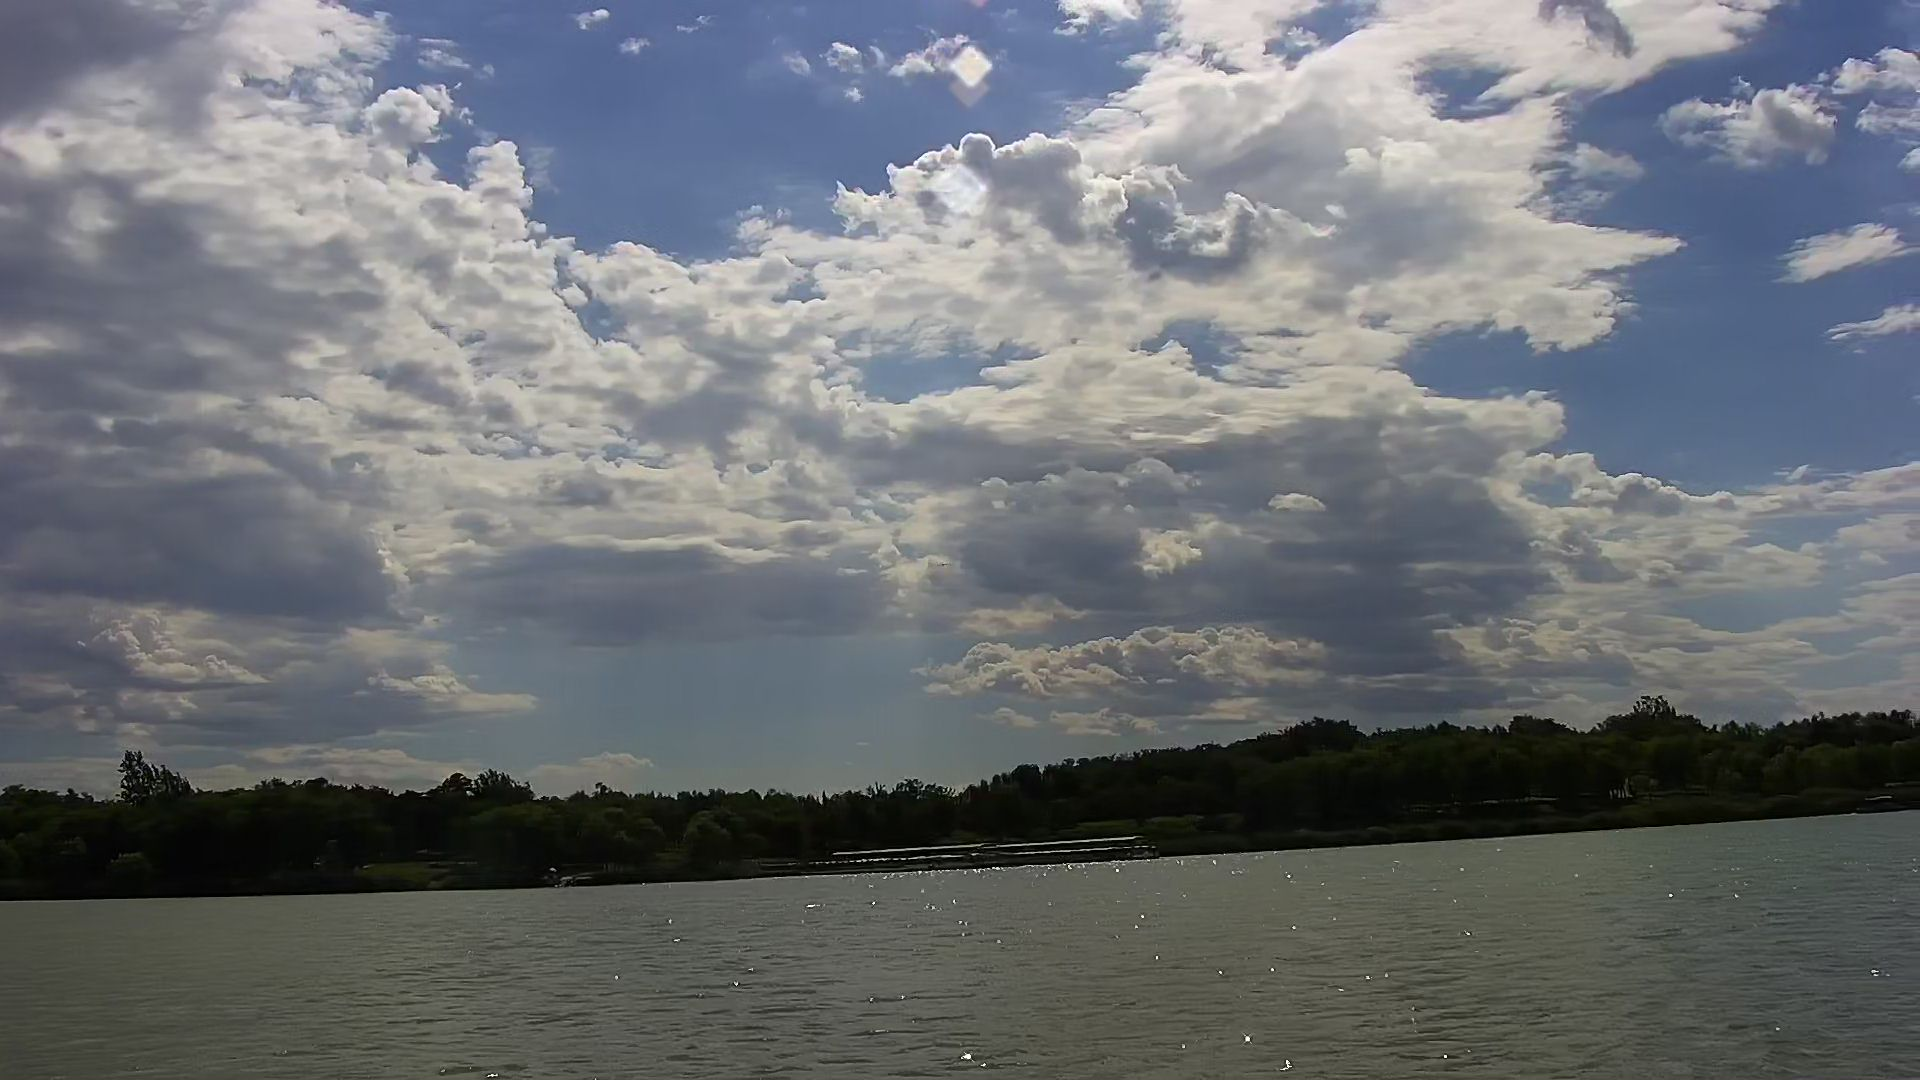harbor: (829, 831, 1149, 868)
